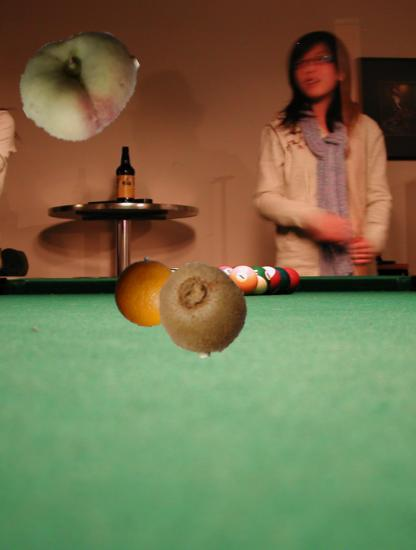Kiwi: (156, 261, 252, 357)
Orange: (113, 258, 182, 327)
Peach: (18, 23, 142, 147)
